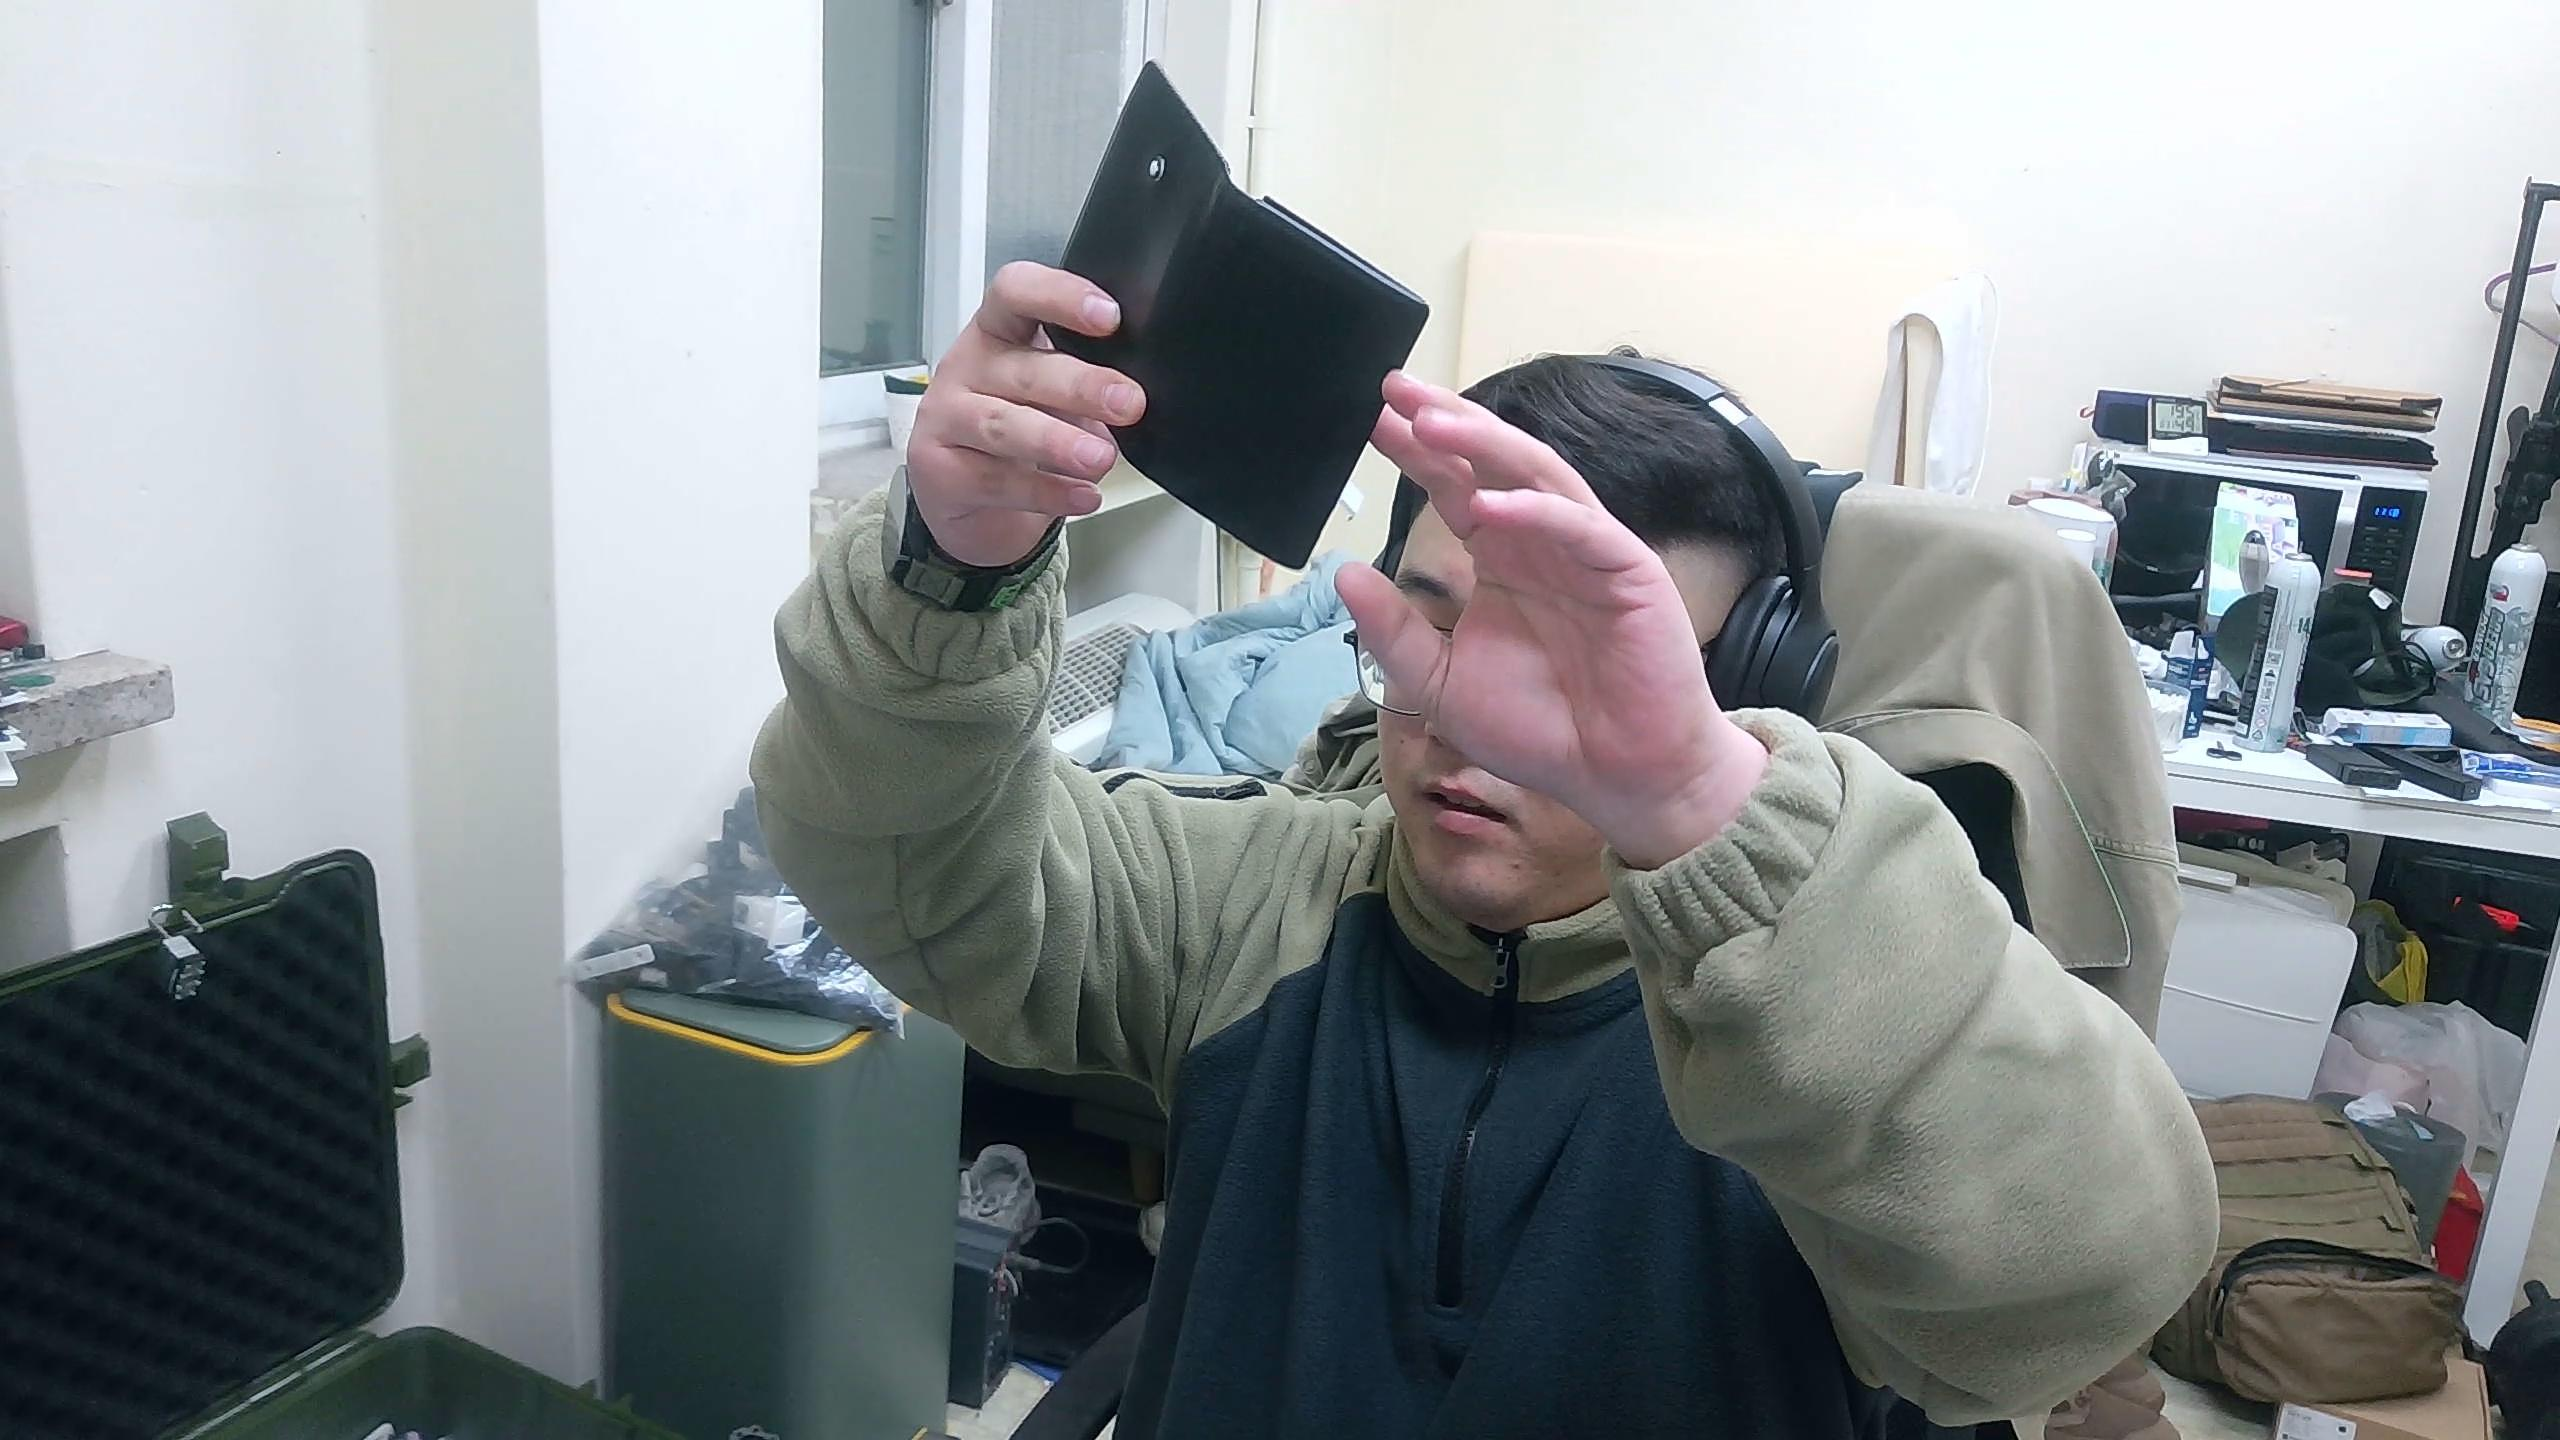Wallet: (1046, 56, 1435, 573)
